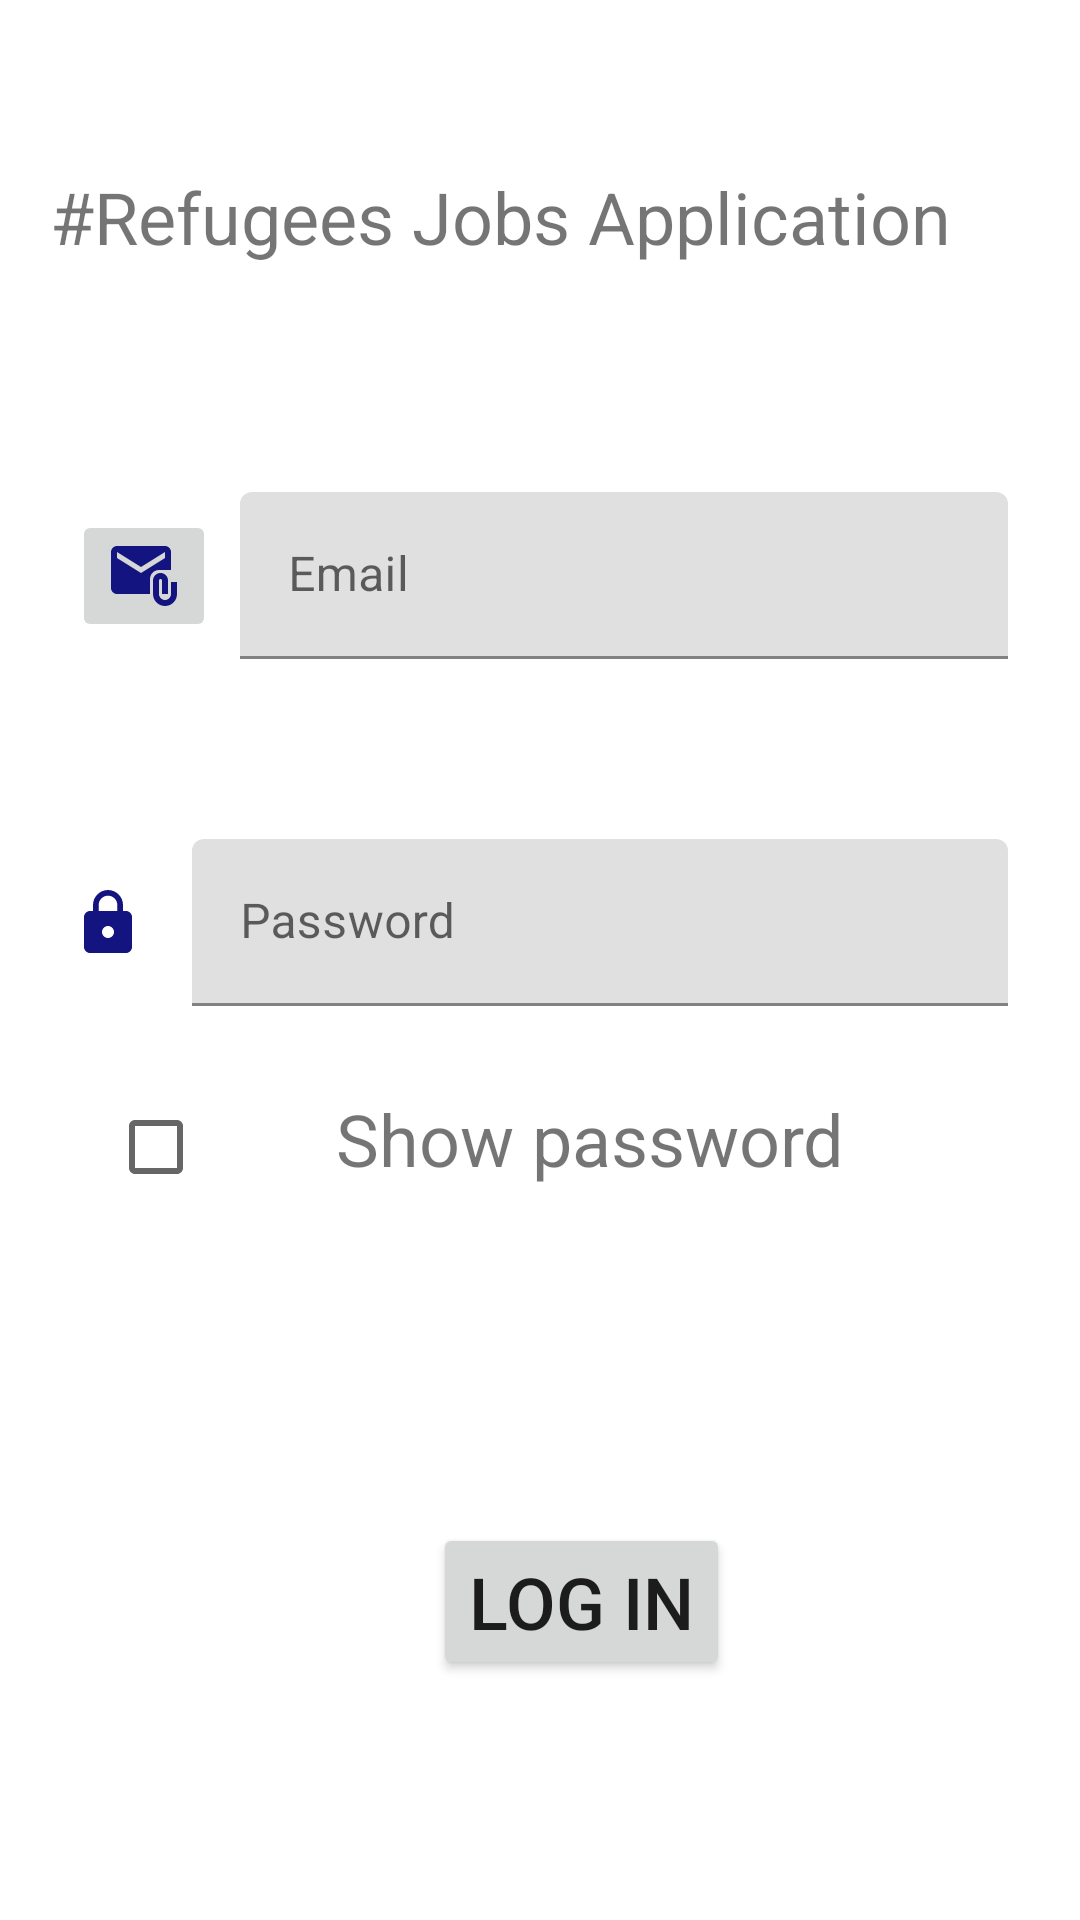

Icon click points for this 1080 x 1920 phone screenshot, format (x,y):
lock: (108,921)
